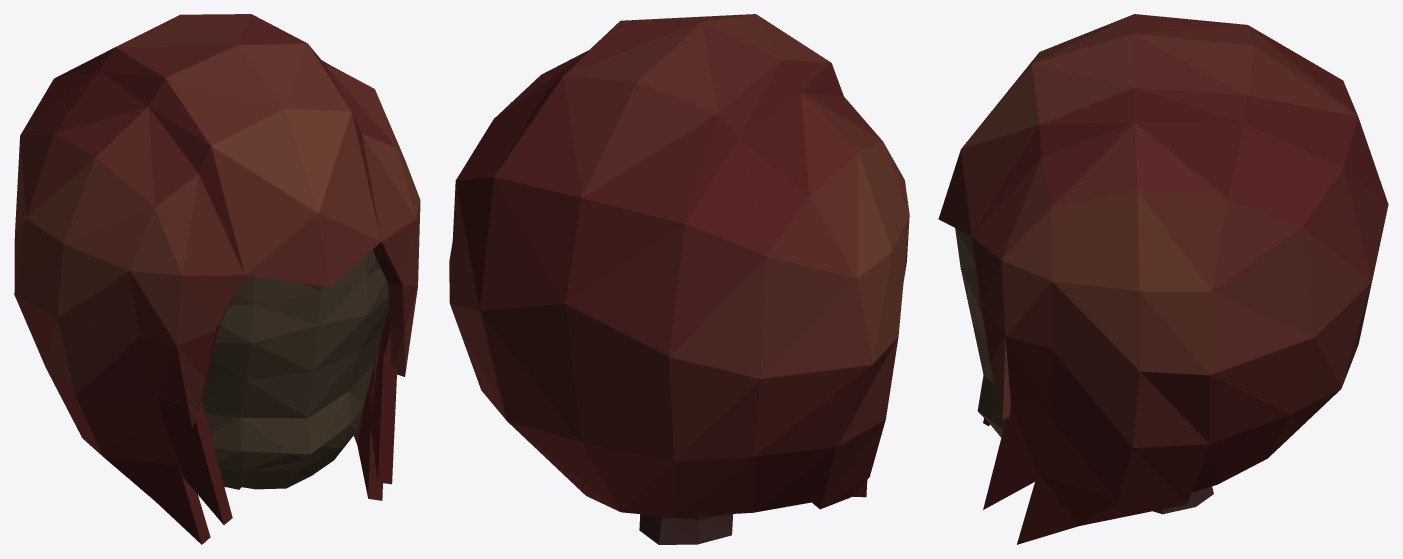
Rendered from helm_darkskin_bob_red.fbx.
3 renders of one model, left to right at view 1: azimuth 30°, elevation 25°; view 2: azimuth 150°, elevation 25°; view 3: azimuth 270°, elevation 25°, orthographic. The views are drawn at different scales.
Parts seen in each view (by area): view 1: helm_darkskin_bob_red; view 2: helm_darkskin_bob_red; view 3: helm_darkskin_bob_red.
Boxes of the visible parts, x1,y1,x2,y2 form: helm_darkskin_bob_red: (14, 14, 420, 544); helm_darkskin_bob_red: (449, 14, 909, 544); helm_darkskin_bob_red: (938, 14, 1388, 544).
Size of the model in its own units: 1.18 by 1.34 by 1.16.
